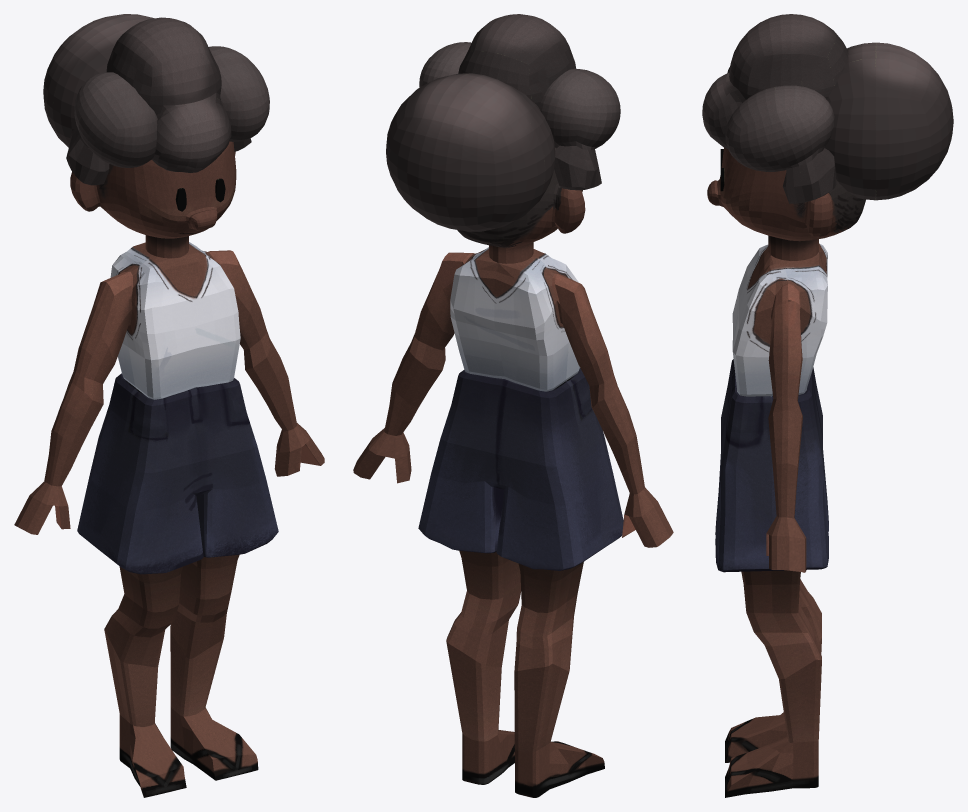
Rendered from MC_JUEGO_2.fbx.
3 renders of one model, left to right at view 1: azimuth 30°, elevation 25°; view 2: azimuth 150°, elevation 25°; view 3: azimuth 270°, elevation 25°, orthographic. The views are drawn at different scales.
Visible parts, largest first — view 1: BODY, Roundcube.002, Roundcube.004, Roundcube.001, Roundcube.005; view 2: BODY, Roundcube.005, Roundcube.004, Roundcube.002, Roundcube.001; view 3: BODY, Roundcube.005, Roundcube.004, Roundcube.002, Roundcube.001.
Boxes of the visible parts, x1,y1,x2,y2 form: BODY: [14, 235, 324, 797]; Roundcube.002: [106, 17, 231, 172]; Roundcube.004: [66, 46, 269, 185]; Roundcube.001: [70, 141, 236, 238]; Roundcube.005: [43, 14, 154, 147]; BODY: [353, 242, 673, 797]; Roundcube.005: [386, 73, 555, 231]; Roundcube.004: [419, 42, 620, 190]; Roundcube.002: [458, 14, 575, 106]; Roundcube.001: [457, 148, 585, 247]; BODY: [715, 235, 828, 797]; Roundcube.005: [824, 42, 953, 200]; Roundcube.004: [725, 67, 836, 203]; Roundcube.002: [702, 14, 848, 148]; Roundcube.001: [707, 147, 865, 241].
Bounding box in the file's own units: 0.7252 × 1.68 × 0.5129.
